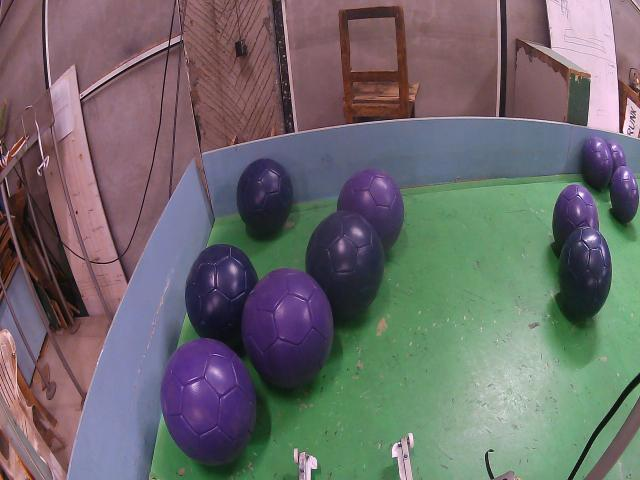jambhalya: (161, 338, 256, 465), (241, 268, 334, 388), (338, 168, 405, 252), (552, 183, 599, 251), (610, 167, 639, 223), (582, 137, 612, 190), (606, 140, 626, 172)
kaalyya: (305, 210, 385, 318), (185, 243, 258, 347), (559, 227, 612, 318), (236, 158, 292, 237)
